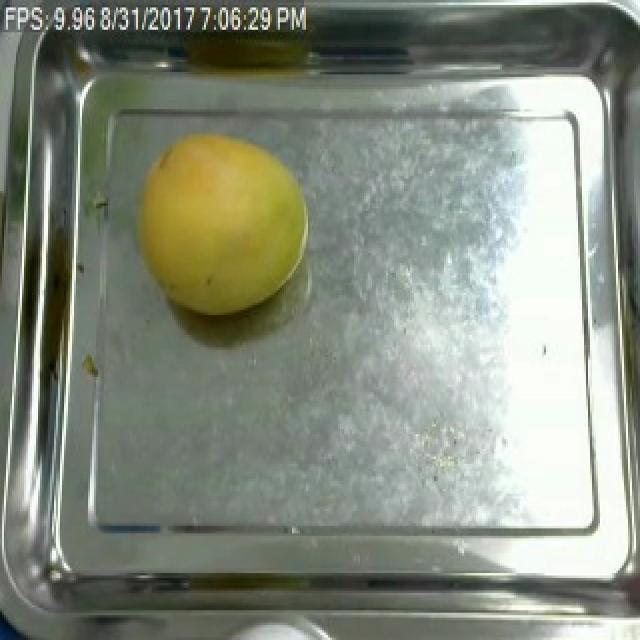fruit: (122, 121, 320, 330)
